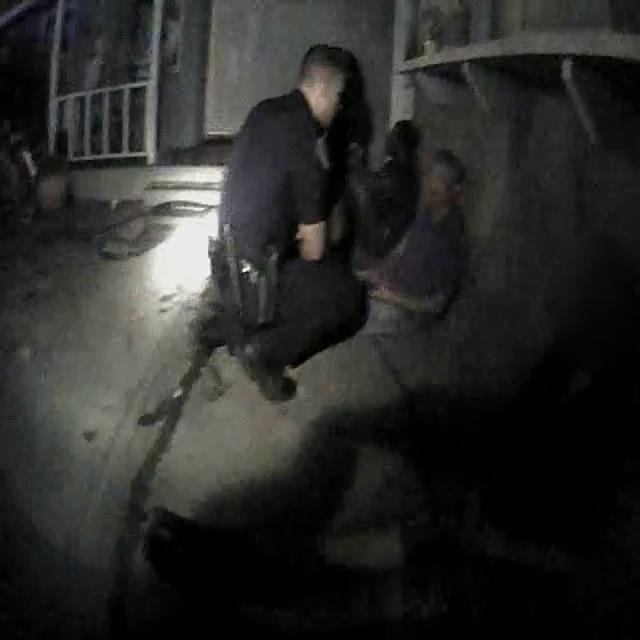gun: (227, 227, 294, 327)
